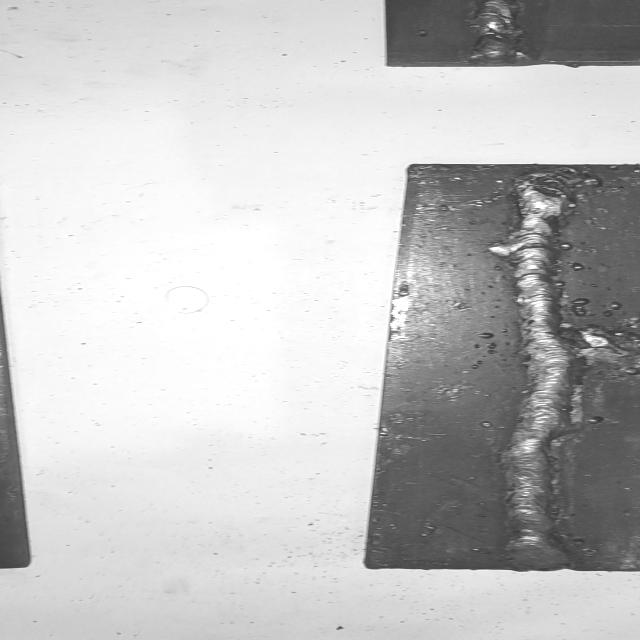Bad Weld: (504, 174, 574, 564)
Defect: (500, 317, 640, 375), (491, 166, 599, 204)
